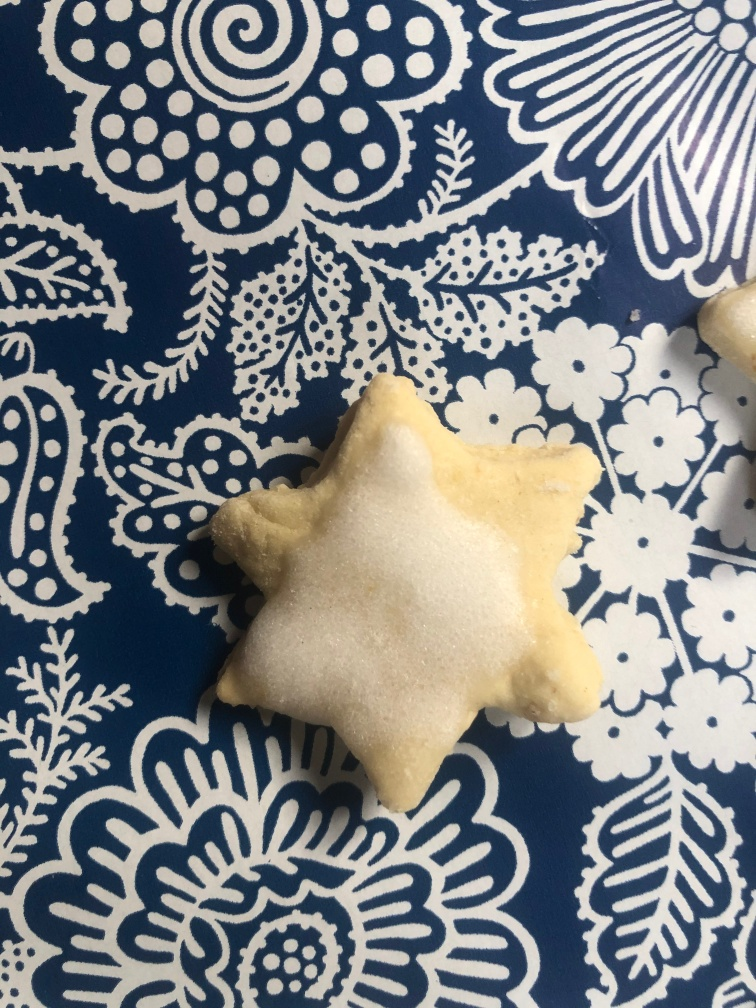star: (201, 354, 607, 812)
